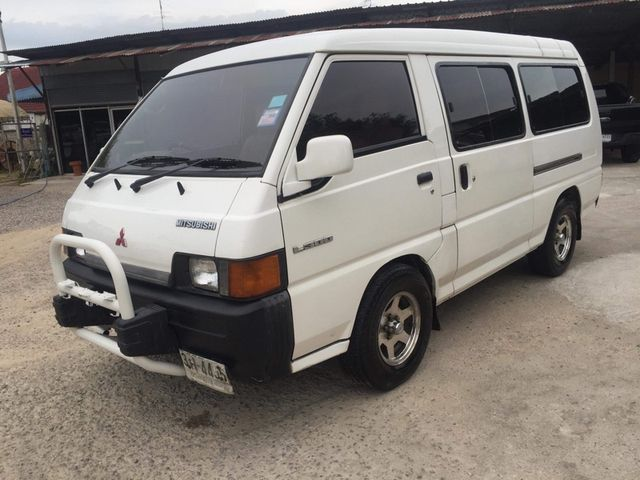van: (48, 23, 603, 399)
